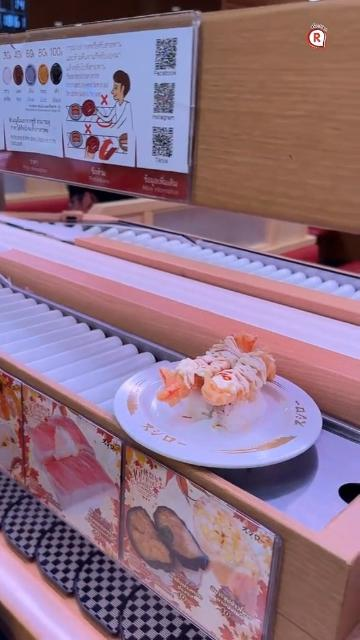janwhite: (119, 343, 334, 482)
